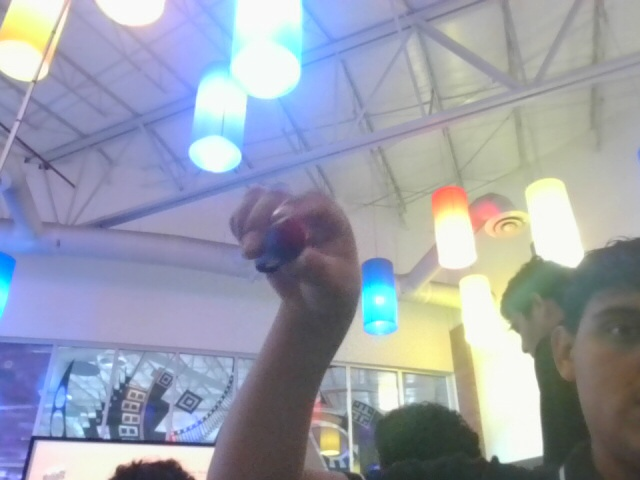destornillador: (253, 216, 307, 275)
